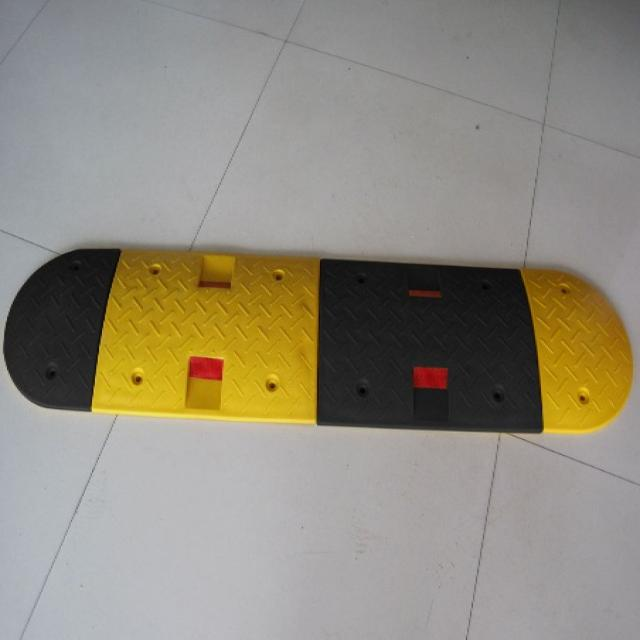Speed Bump: (18, 237, 640, 443)
